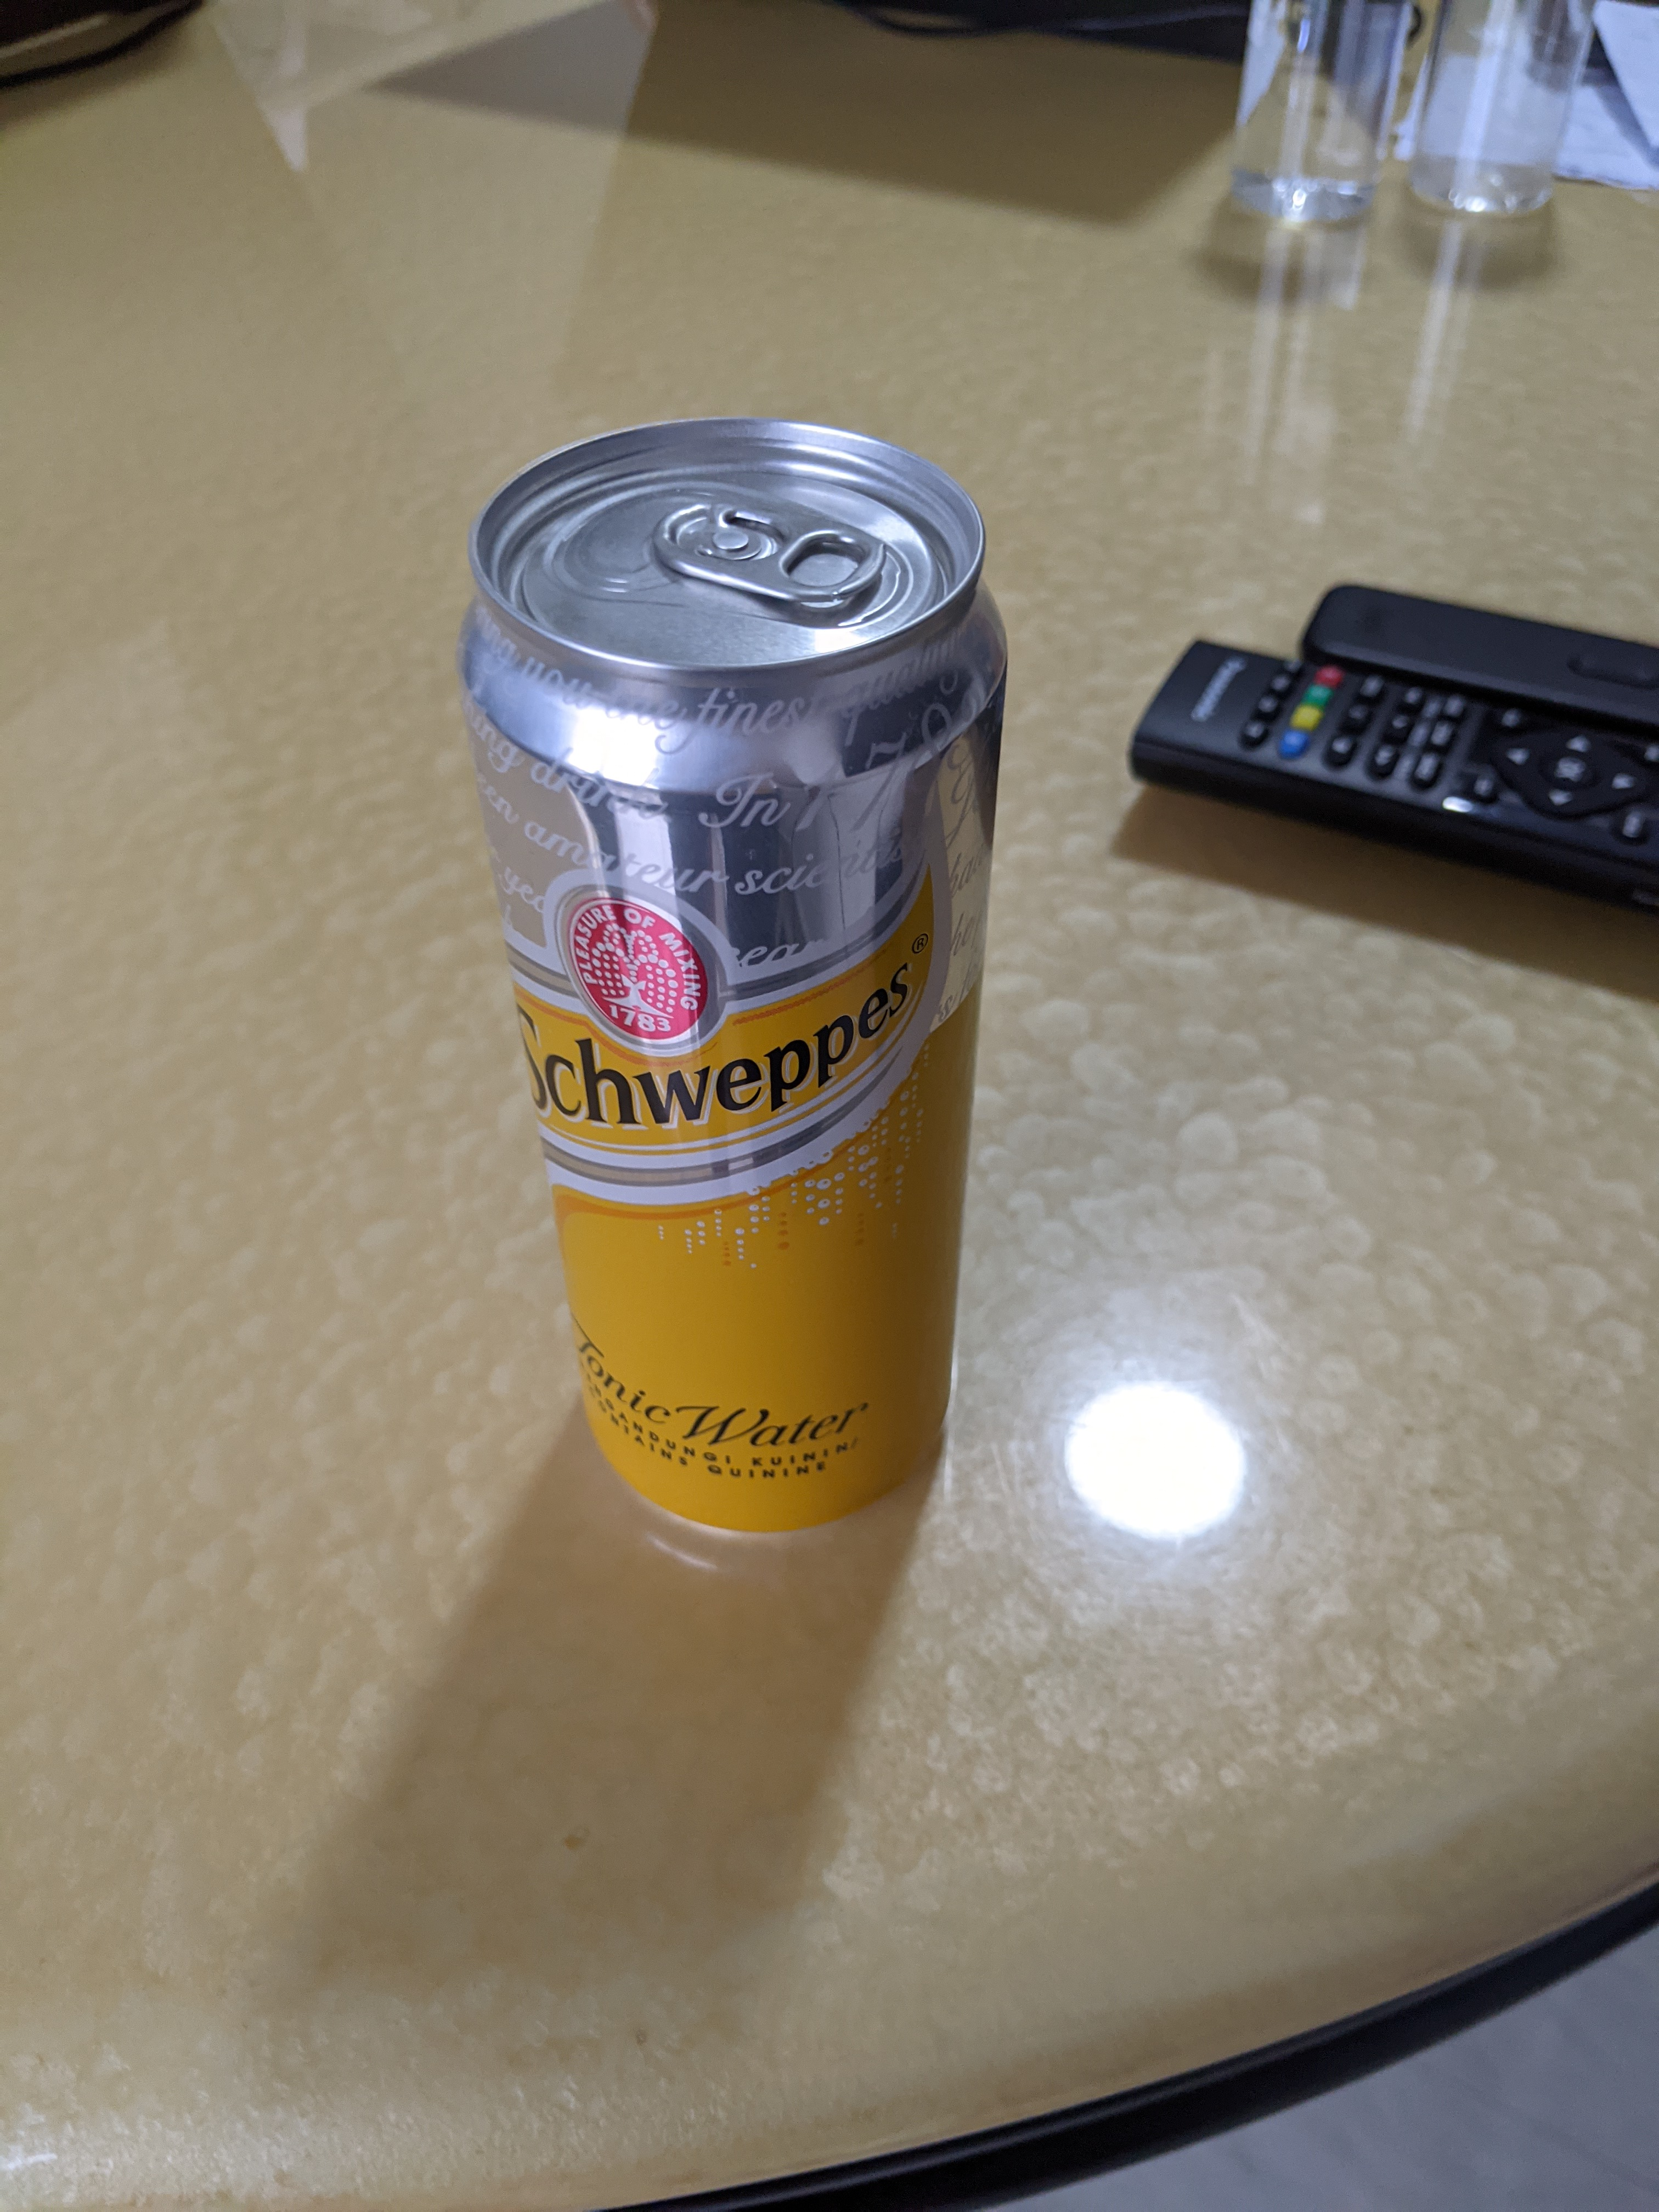schweppes drink can tonic water: (430, 395, 1035, 1580)
